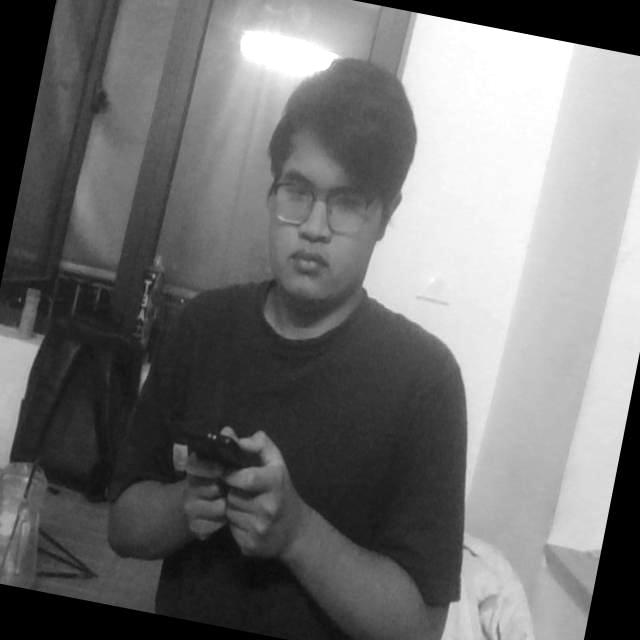phone: (176, 422, 274, 499)
